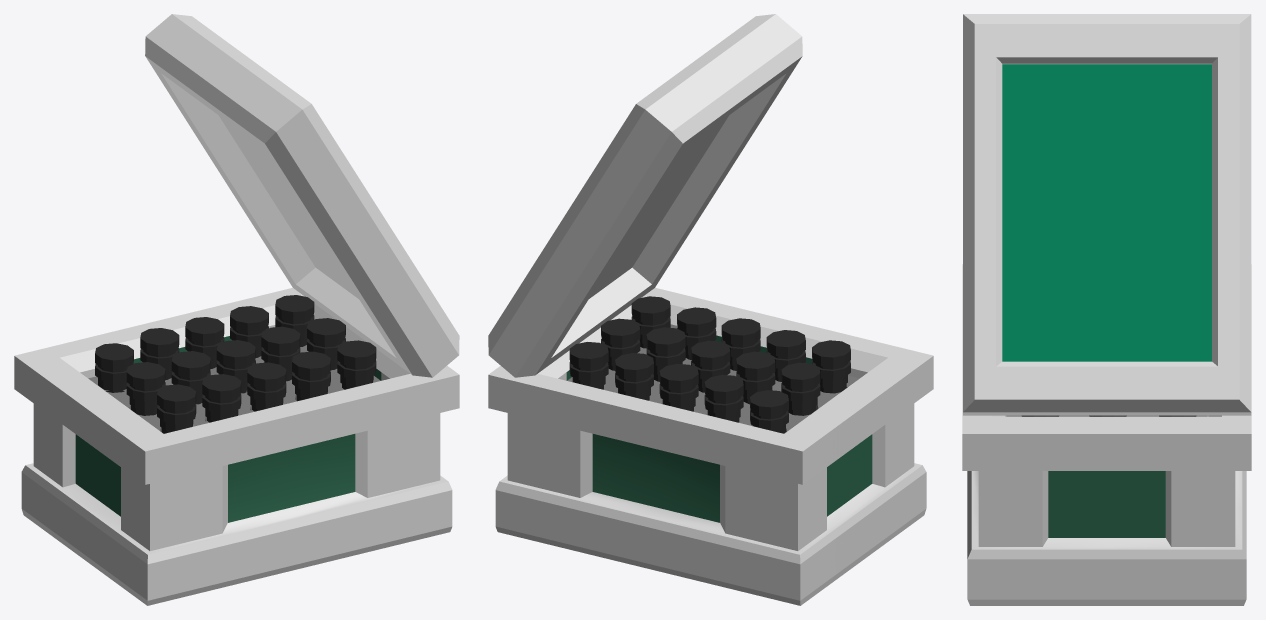
The model's file is Open_big_chest.fbx.
The picture shows the model from 3 angles, left to right: view 1: azimuth 30°, elevation 25°; view 2: azimuth 150°, elevation 25°; view 3: azimuth 270°, elevation 25°; orthographic projection. The views are drawn at different scales.
Parts seen in each view (by area): view 1: polySurface2054, polySurface2060, polySurface2067, polySurface2071, polySurface2072, polySurface2064, polySurface2069, polySurface2070, polySurface2055, polySurface2068, polySurface2057, polySurface2066 (+6 smaller); view 2: polySurface2054, polySurface2060, polySurface2067, polySurface2071, polySurface2069, polySurface2066, polySurface2065, polySurface2063, polySurface2059, polySurface2058, polySurface2068, polySurface2057 (+6 smaller); view 3: polySurface2060, polySurface2054.
Part boxes in pixels (bbox=[...]): polySurface2054: bbox=[14, 287, 459, 605]; polySurface2060: bbox=[145, 14, 459, 377]; polySurface2067: bbox=[126, 362, 165, 415]; polySurface2071: bbox=[157, 384, 196, 433]; polySurface2072: bbox=[247, 362, 286, 411]; polySurface2064: bbox=[337, 340, 376, 389]; polySurface2069: bbox=[88, 345, 380, 431]; polySurface2070: bbox=[292, 351, 330, 401]; polySurface2055: bbox=[202, 374, 241, 422]; polySurface2068: bbox=[95, 343, 133, 392]; polySurface2057: bbox=[261, 326, 300, 381]; polySurface2066: bbox=[140, 328, 179, 379]; polySurface2054: bbox=[488, 287, 933, 605]; polySurface2060: bbox=[488, 14, 802, 377]; polySurface2067: bbox=[781, 362, 820, 415]; polySurface2071: bbox=[812, 340, 850, 393]; polySurface2069: bbox=[567, 347, 859, 433]; polySurface2066: bbox=[704, 374, 743, 422]; polySurface2065: bbox=[659, 363, 698, 411]; polySurface2063: bbox=[569, 342, 608, 389]; polySurface2059: bbox=[615, 353, 653, 400]; polySurface2058: bbox=[736, 351, 775, 404]; polySurface2068: bbox=[750, 390, 788, 433]; polySurface2057: bbox=[646, 327, 685, 381]; polySurface2060: bbox=[963, 14, 1251, 415]; polySurface2054: bbox=[962, 264, 1251, 605].
Bounding box in the file's own units: 1.7 × 2.34 × 1.2.
